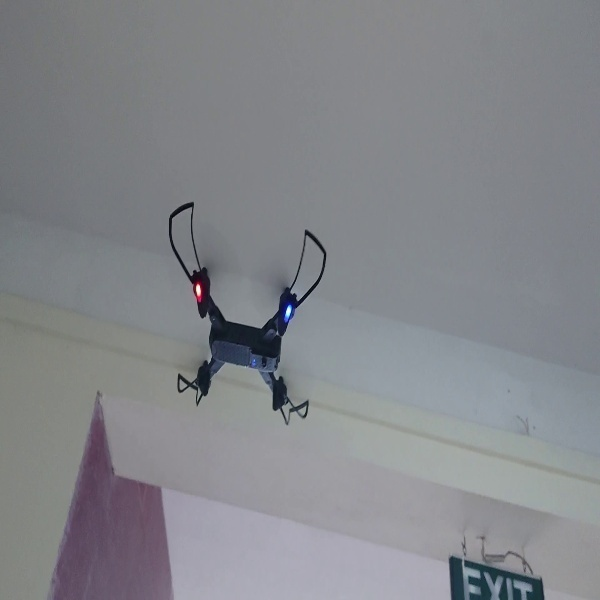drone: (164, 197, 327, 428)
